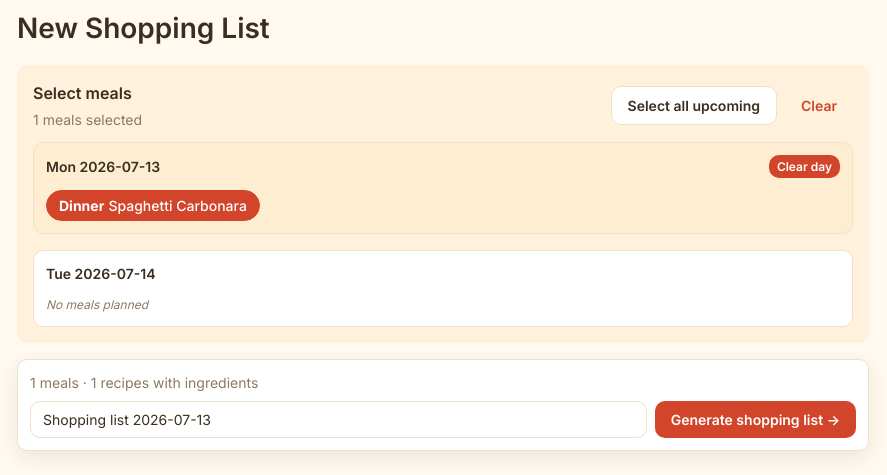
Scenario: ShoppingListNewView › disables the generate button when nothing is selected and enables it once something is
Expected: the button with class "btn--primary" is enabled, [655,401,856,438]
Click the button "Clear" at x=819, y=106, box [785,86,853,125]
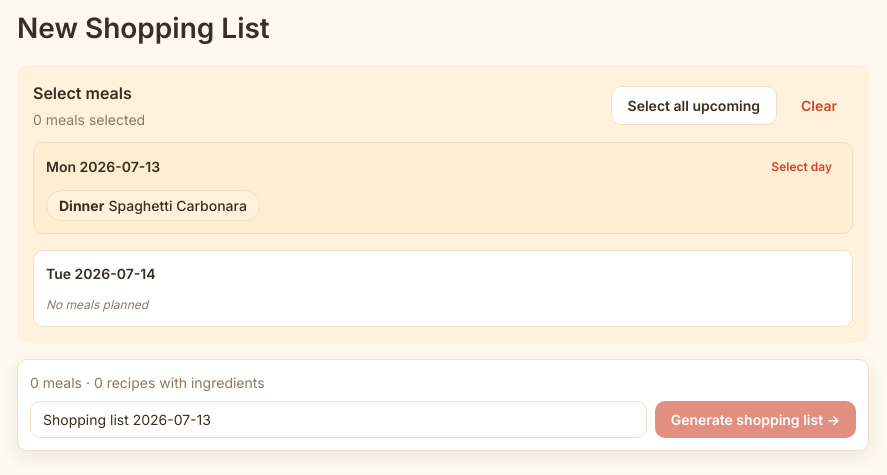
Expected: the button with class "btn--primary" is disabled, [655,401,856,438]
